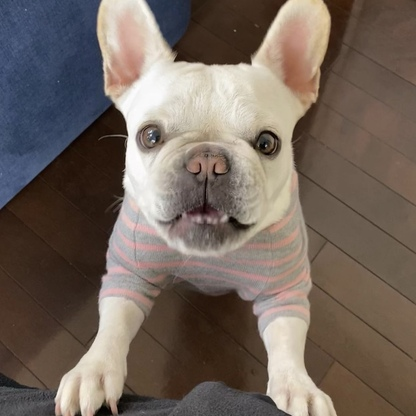bulldog: (83, 7, 349, 416)
